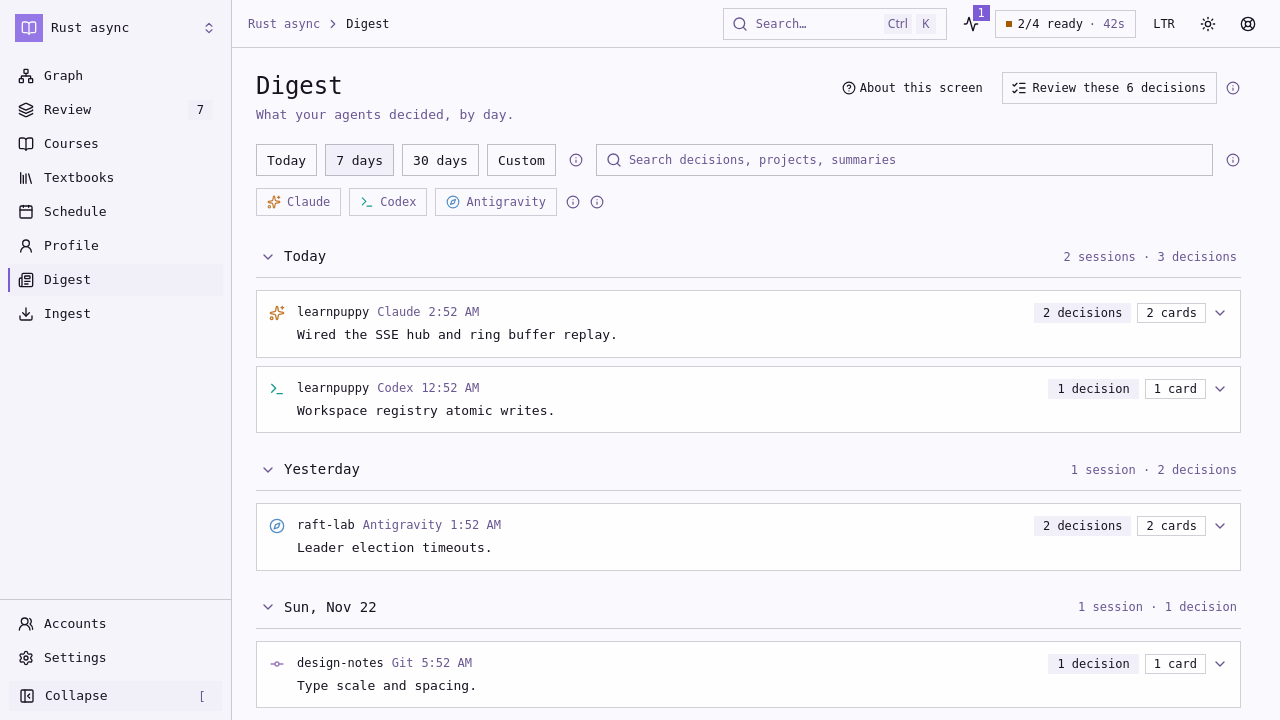
it: Digest filters (URL-backed) › narrows to today with the range preset
Expected: the element with test id "digest-days" is shown, 256,236 -> 1241,719
What coordinates should you click on to do the following:
click the radio button with test id "digest-range-today"
I would click on:
 (287, 160)
Its box is 256,144 -> 317,176.
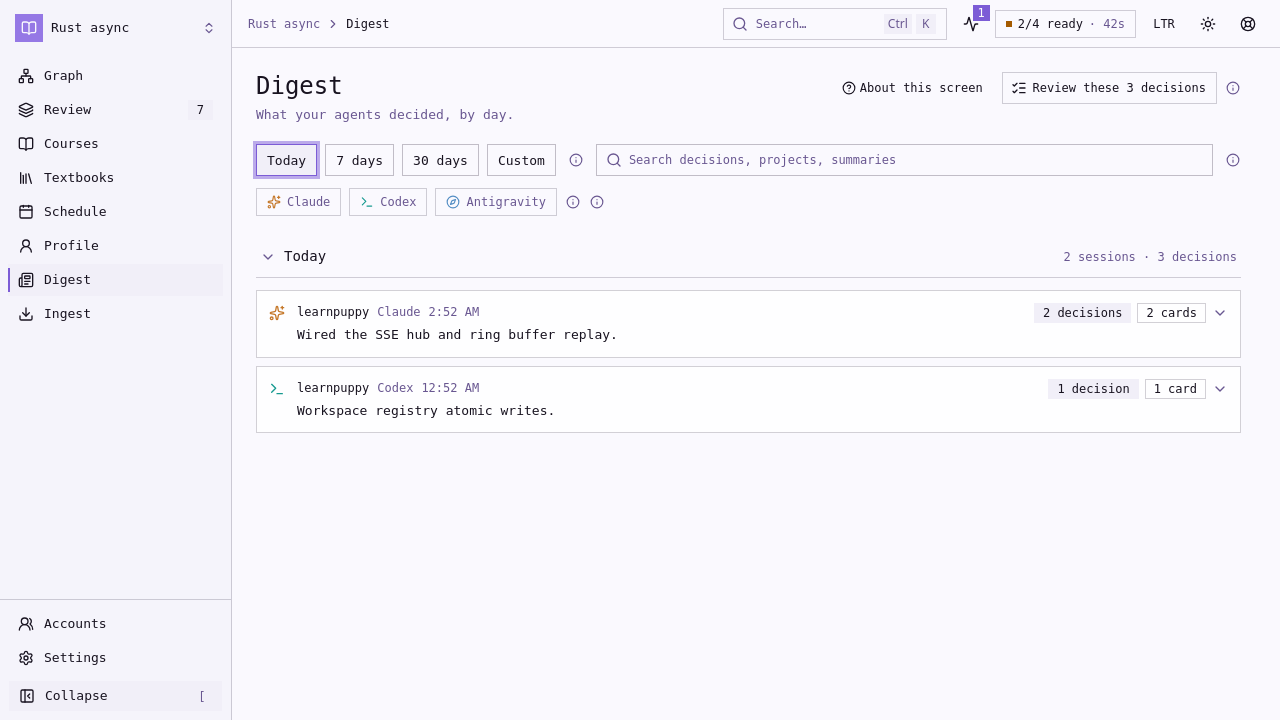
Expected: the text "Today" is shown, 260,246 -> 326,267
Expected: the button "Yesterday" is gone
